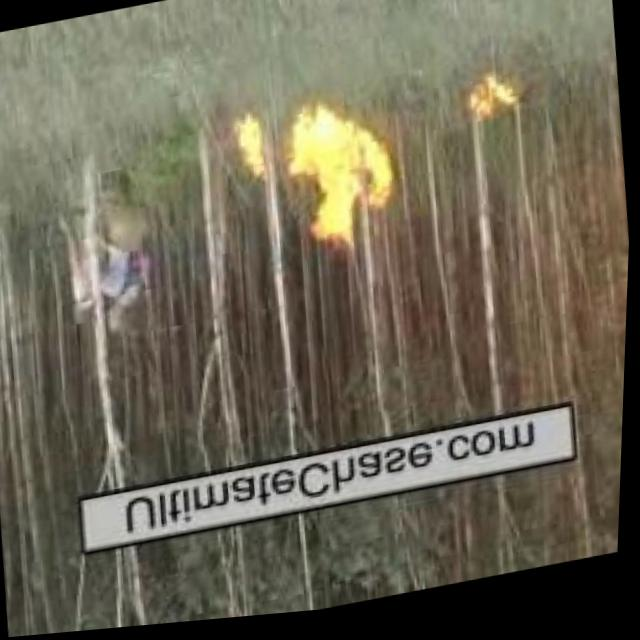Fire: (282, 103, 401, 251), (464, 72, 522, 137), (234, 110, 270, 194)
